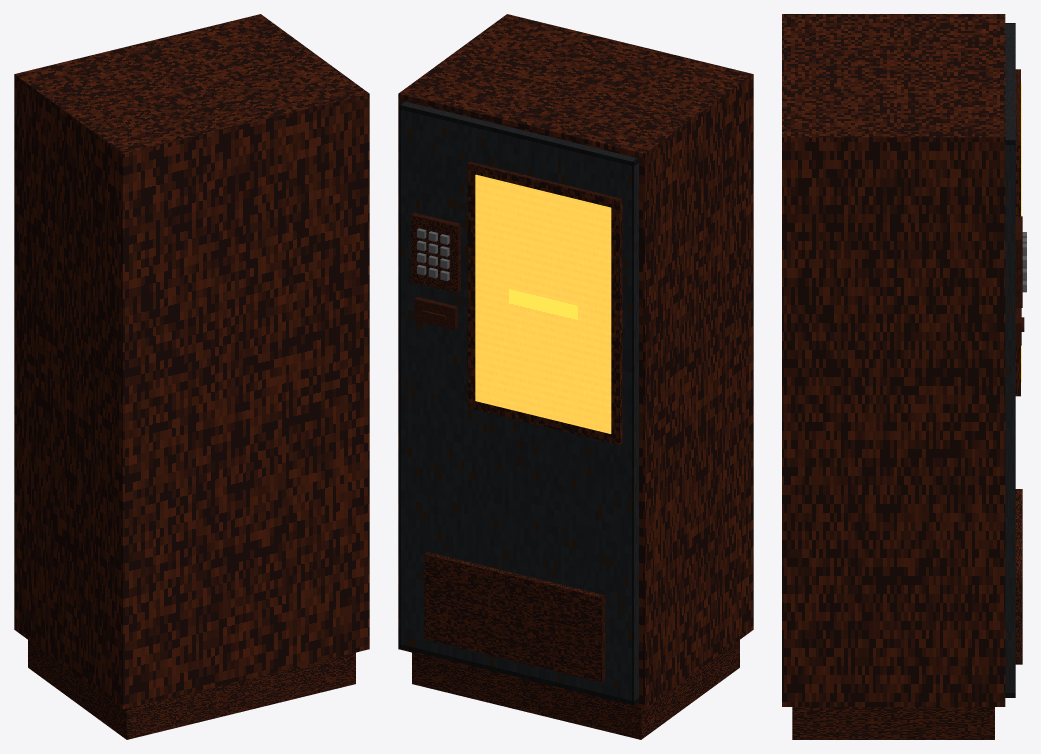
File: ration_automat_derelict_decay.glb
3 views of the same model, side by side, from view 1: azimuth 30°, elevation 25°; view 2: azimuth 150°, elevation 25°; view 3: azimuth 270°, elevation 25° (orthographic). The views are drawn at different scales.
Visible parts, largest first — view 1: ration_automat_derelict_decay; view 2: ration_automat_derelict_decay; view 3: ration_automat_derelict_decay.
Boxes of the visible parts, left/top/right/bottom form: ration_automat_derelict_decay: left=14, top=14, right=369, bottom=739; ration_automat_derelict_decay: left=398, top=14, right=753, bottom=739; ration_automat_derelict_decay: left=782, top=14, right=1026, bottom=739.
Size of the model in its own units: 0.85 by 1.95 by 0.7125.
7 materials, 7 textured.
